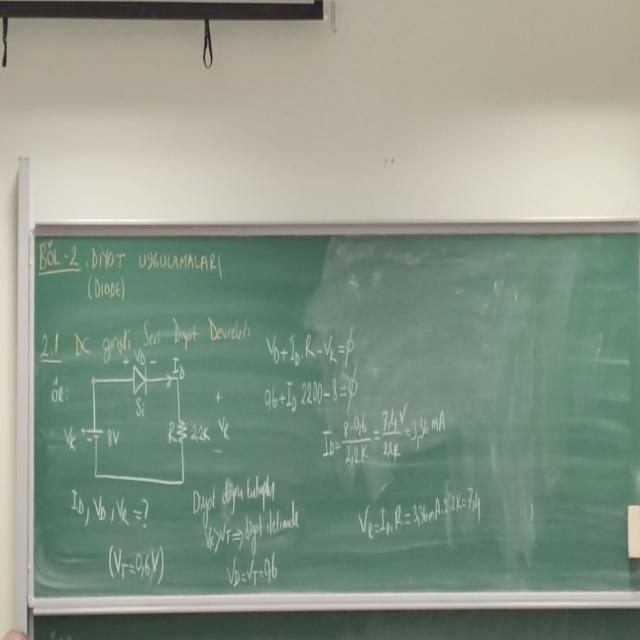image: (61, 356, 235, 501)
math: (316, 399, 458, 472), (84, 242, 228, 311), (350, 476, 486, 549), (260, 319, 364, 412), (66, 483, 150, 532), (218, 548, 285, 596), (104, 536, 168, 584)
text: (191, 478, 299, 553), (69, 313, 251, 356)
